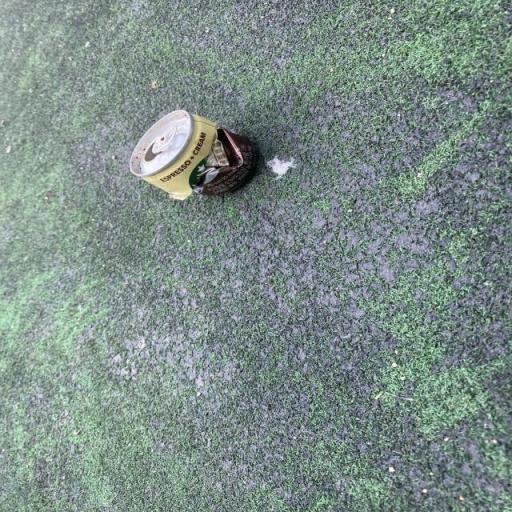metal: (130, 110, 254, 199)
